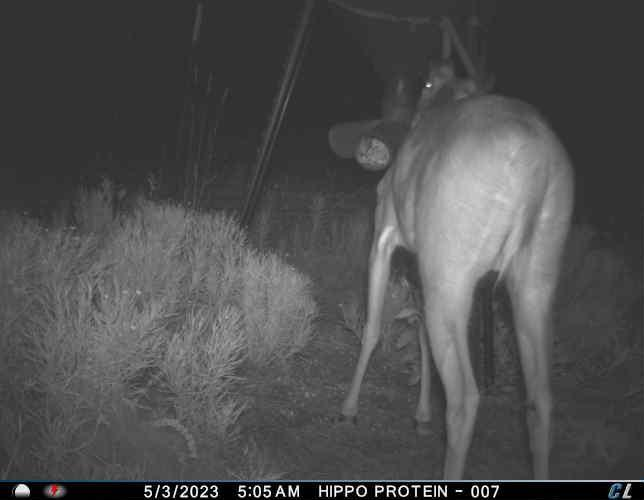Deer: (340, 51, 580, 481)
